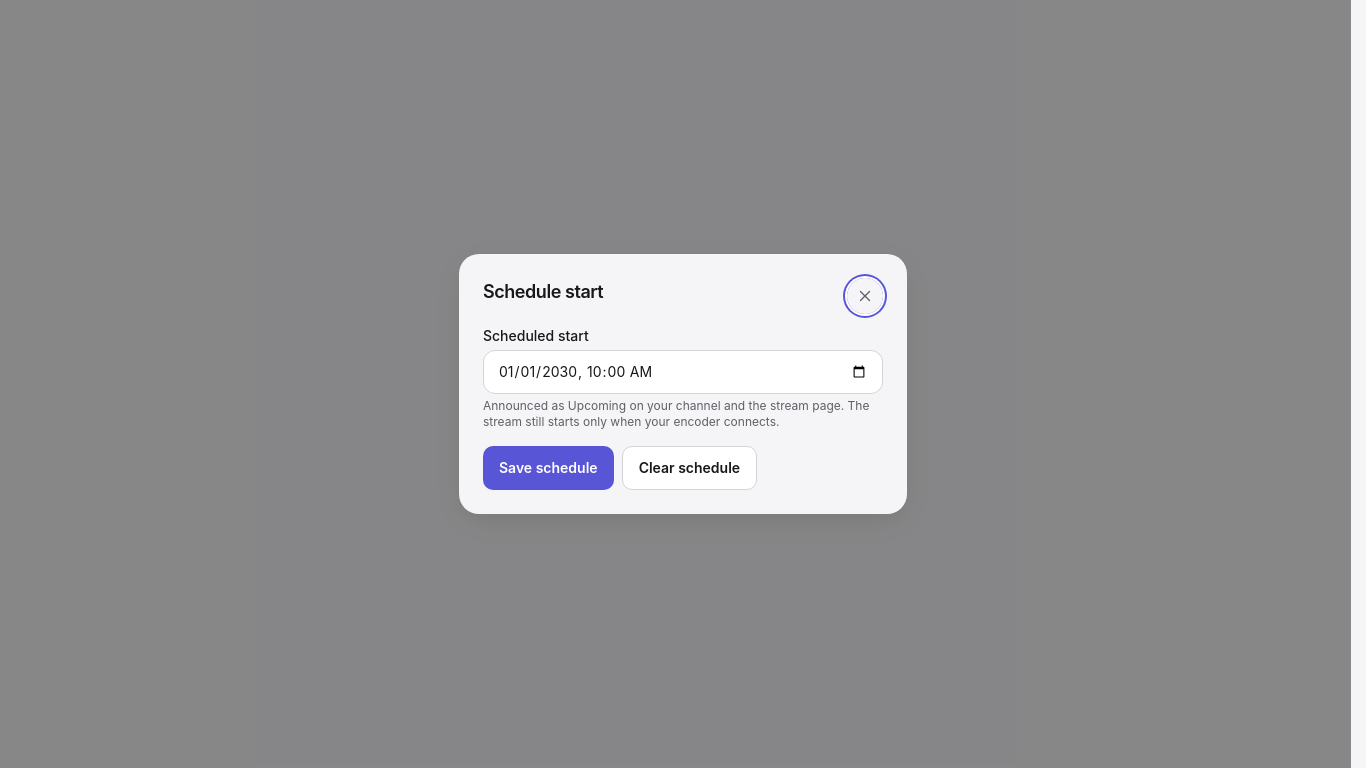
Test: LiveScheduleDialog › shows the server's refusal and stays open
Click the button "Save schedule": (548, 468) [483,446,614,490]
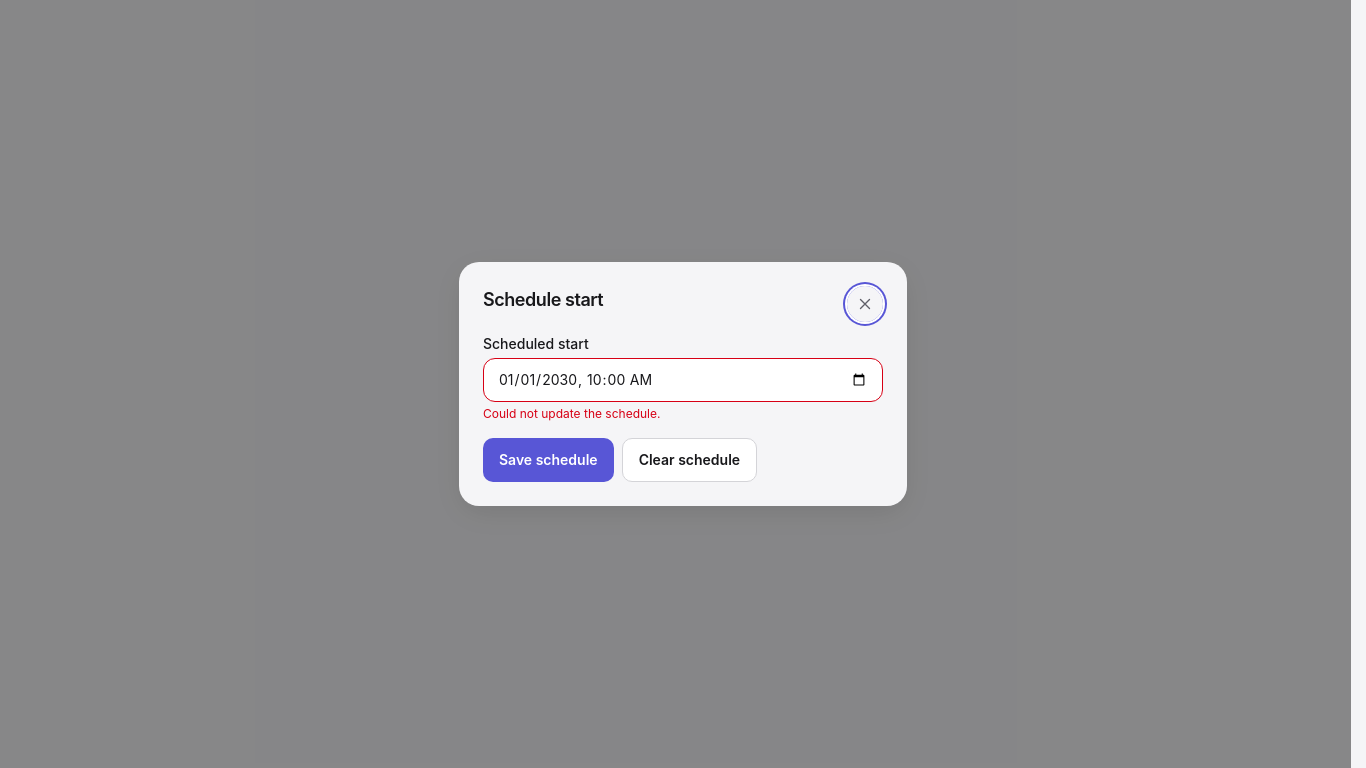
Now the text "Could not update the schedule." is shown, box [483,406,660,421]
